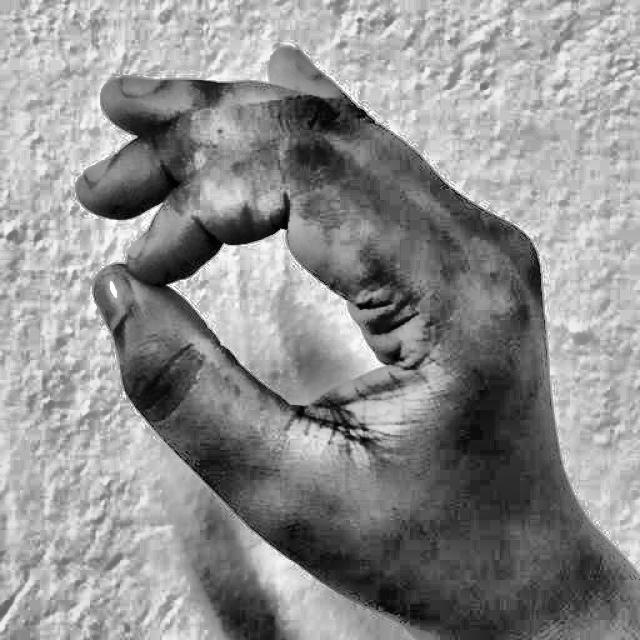Yo: (45, 24, 602, 634)
